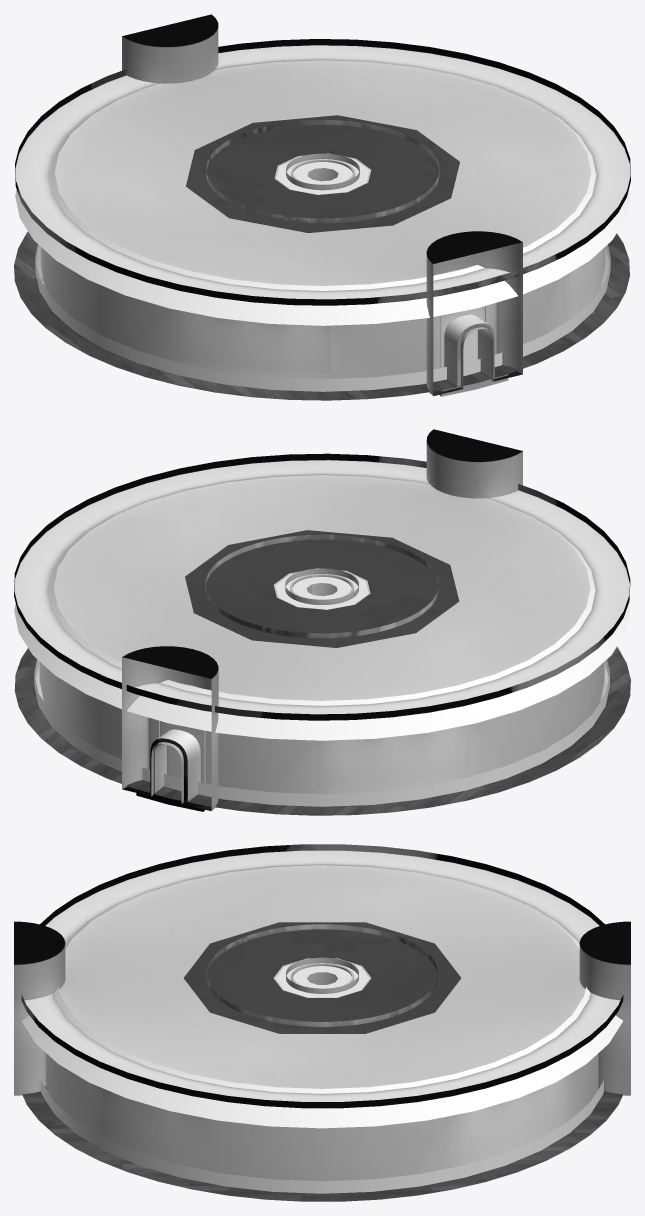
3 views of the same model, one above another, from view 1: azimuth 30°, elevation 25°; view 2: azimuth 150°, elevation 25°; view 3: azimuth 270°, elevation 25° (orthographic).
Visible parts, largest first — view 1: A1; view 2: A1; view 3: A1.
Boxes of the visible parts, left/top/right/bottom form: A1: left=14, top=14, right=630, bottom=400; A1: left=14, top=429, right=630, bottom=815; A1: left=14, top=844, right=630, bottom=1201.
Bounding box in the file's own units: 15616 × 15771 × 3865.
